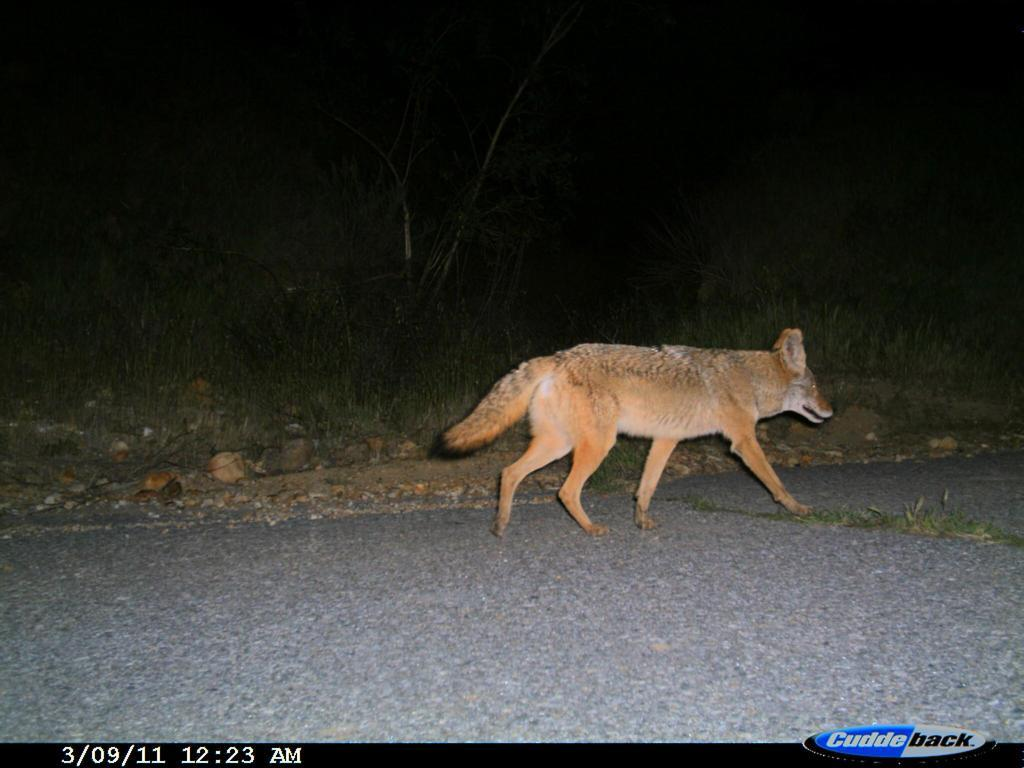coyote: (425, 315, 853, 550)
